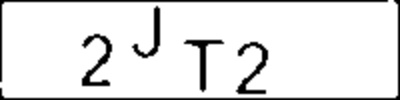2: (78, 31, 117, 90), (233, 40, 270, 100)
J: (130, 1, 168, 61)
T: (178, 34, 230, 97)
